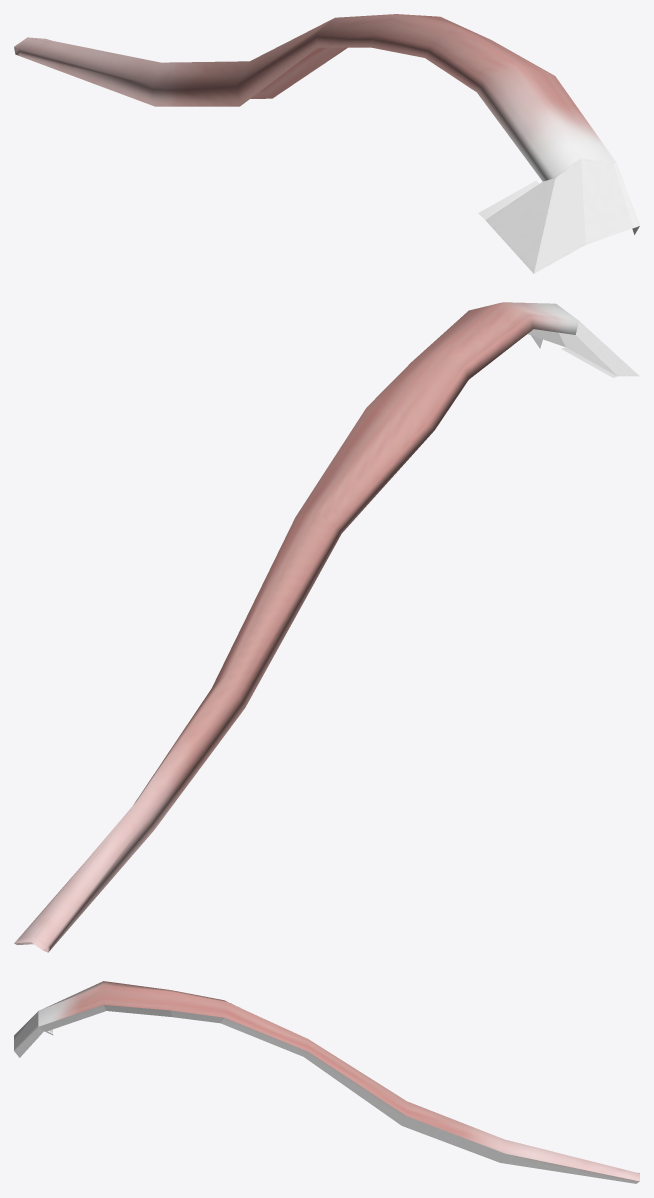
File: Músculo Recto Superior2.FBX
3 renders of one model, top to bottom at view 1: azimuth 30°, elevation 25°; view 2: azimuth 150°, elevation 25°; view 3: azimuth 270°, elevation 25°, orthographic. The views are drawn at different scales.
Parts seen in each view (by area): view 1: sclera right; view 2: sclera right; view 3: sclera right.
Part boxes in pixels (box(x1,y1,x2,y2)): sclera right: box(14, 14, 639, 273); sclera right: box(14, 302, 639, 952); sclera right: box(14, 981, 639, 1183).
Size of the model in its own units: 0.1411 by 0.4049 by 1.22.
1 material, 1 textured.
